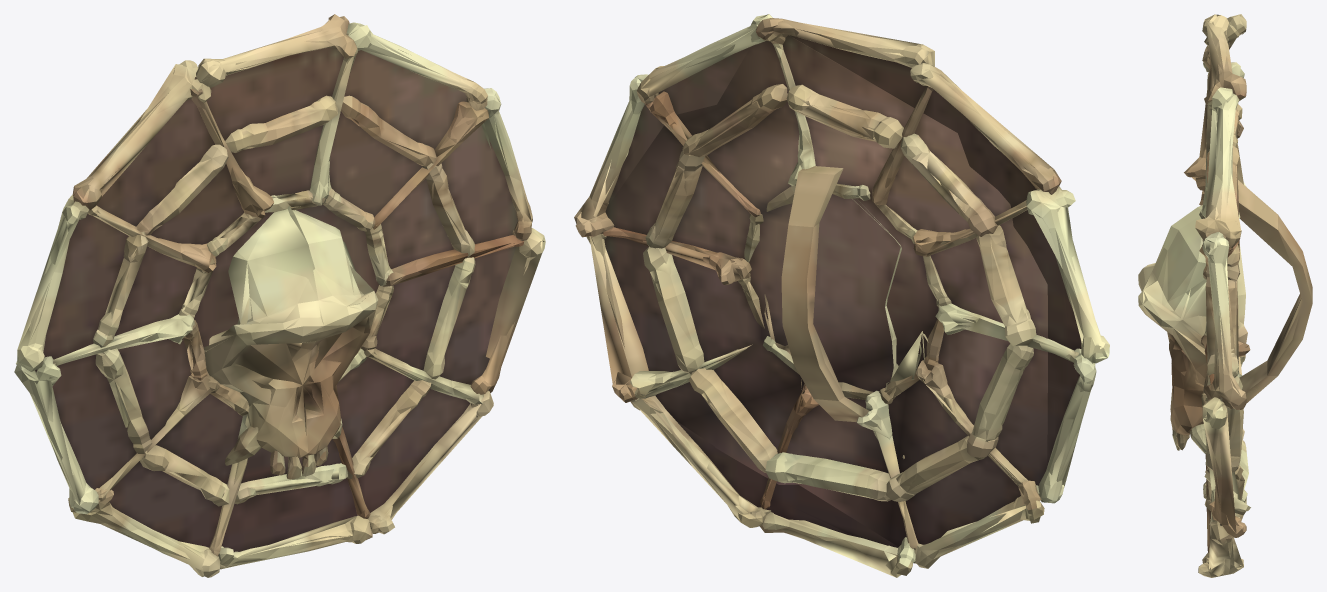
File: item_shield_bones.glb
3 views of the same model, side by side, from view 1: azimuth 30°, elevation 25°; view 2: azimuth 150°, elevation 25°; view 3: azimuth 270°, elevation 25° (orthographic). The views are drawn at different scales.
Parts seen in each view (by area): view 1: Shield_Bone; view 2: Shield_Bone; view 3: Shield_Bone.
Part boxes in pixels (x1,y1,x2,y2): Shield_Bone: (14, 14, 545, 577); Shield_Bone: (574, 14, 1109, 577); Shield_Bone: (1138, 14, 1312, 577).
Size of the model in its own units: 0.6337 by 0.607 by 0.1939.
Materials: 1 (1 with a texture image).
